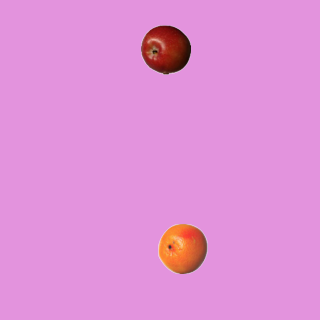Apple Braeburn: (140, 24, 190, 74)
Grapefruit Pink: (157, 223, 207, 273)
